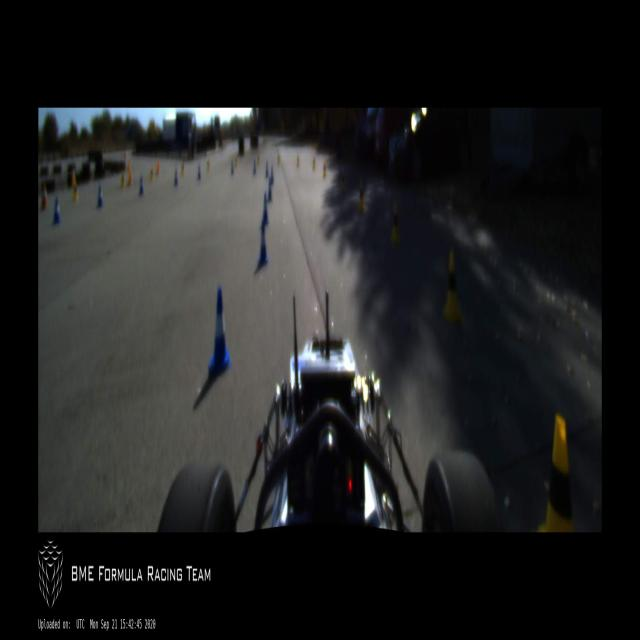blue_cone: (208, 288, 232, 377), (258, 224, 268, 266), (262, 194, 268, 225), (97, 183, 104, 208), (53, 199, 60, 223), (267, 178, 273, 202), (139, 177, 144, 196), (270, 166, 274, 185), (265, 160, 269, 178), (174, 169, 178, 186), (253, 160, 256, 174), (231, 159, 234, 173), (198, 165, 200, 180)
unknown_cone: (41, 182, 48, 210), (128, 168, 133, 185), (156, 158, 160, 176)
yellow_cone: (536, 412, 574, 532), (442, 252, 462, 326), (390, 202, 400, 246), (359, 182, 365, 212), (341, 168, 346, 192), (73, 182, 78, 200), (121, 172, 126, 188), (296, 154, 300, 168), (312, 157, 316, 170), (323, 162, 326, 178), (150, 166, 153, 181), (181, 162, 184, 176), (207, 157, 210, 170), (277, 154, 280, 164), (257, 156, 260, 166), (235, 155, 237, 168)
